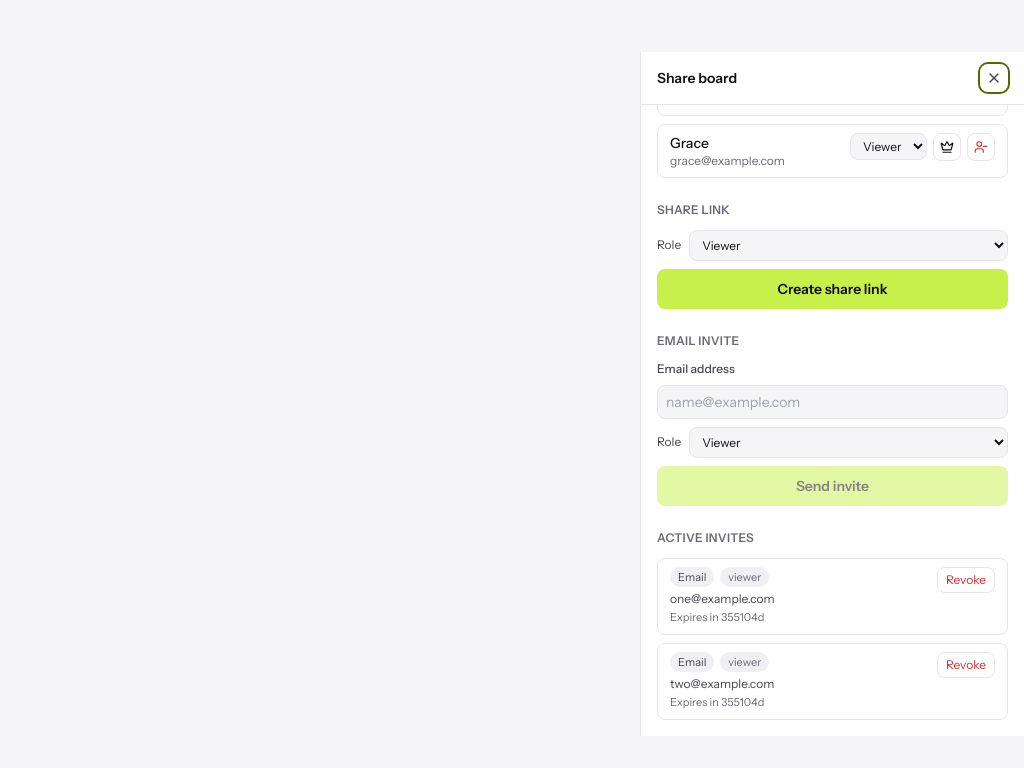
it: BoardSharingPanel › tracks revoke pending per invite row
(page scrolled)
Step 1. Click the button with aria-label "revoke invite for one@example.com" → (966, 580), box [937,566,995,592]
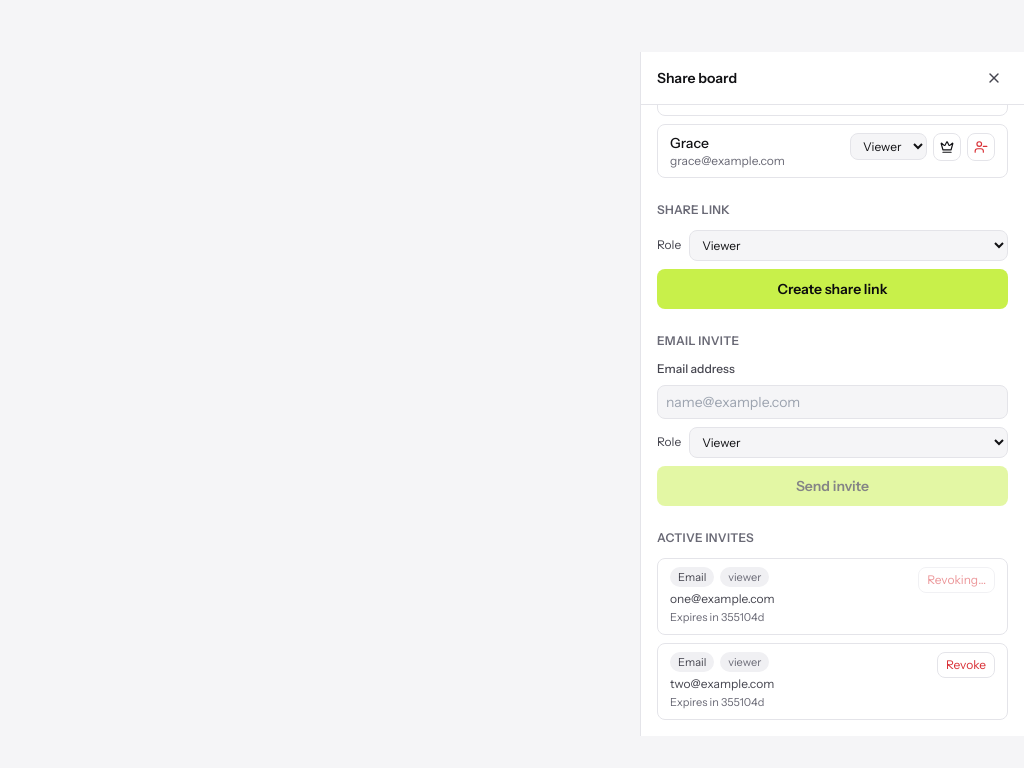
Expected: the button with aria-label "revoke invite for two@example.com" is enabled, [937,652,995,678]
Expected: the button with aria-label "revoke invite for one@example.com" is disabled, [918,566,995,592]
Expected: the button with aria-label "revoke invite for one@example.com" shows "Revoking", [918,566,995,592]
